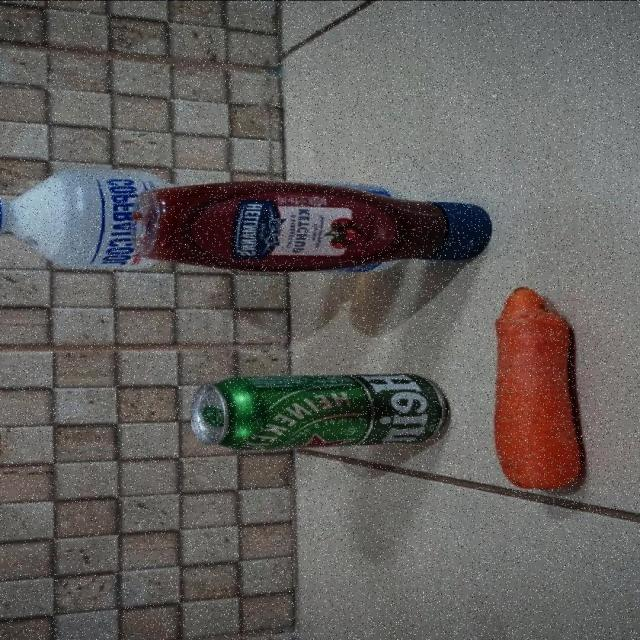AlcoholBottle: (0, 170, 137, 267)
BeerCan: (190, 373, 446, 450)
Carrot: (494, 288, 583, 491)
Ketchup: (132, 180, 493, 273)
